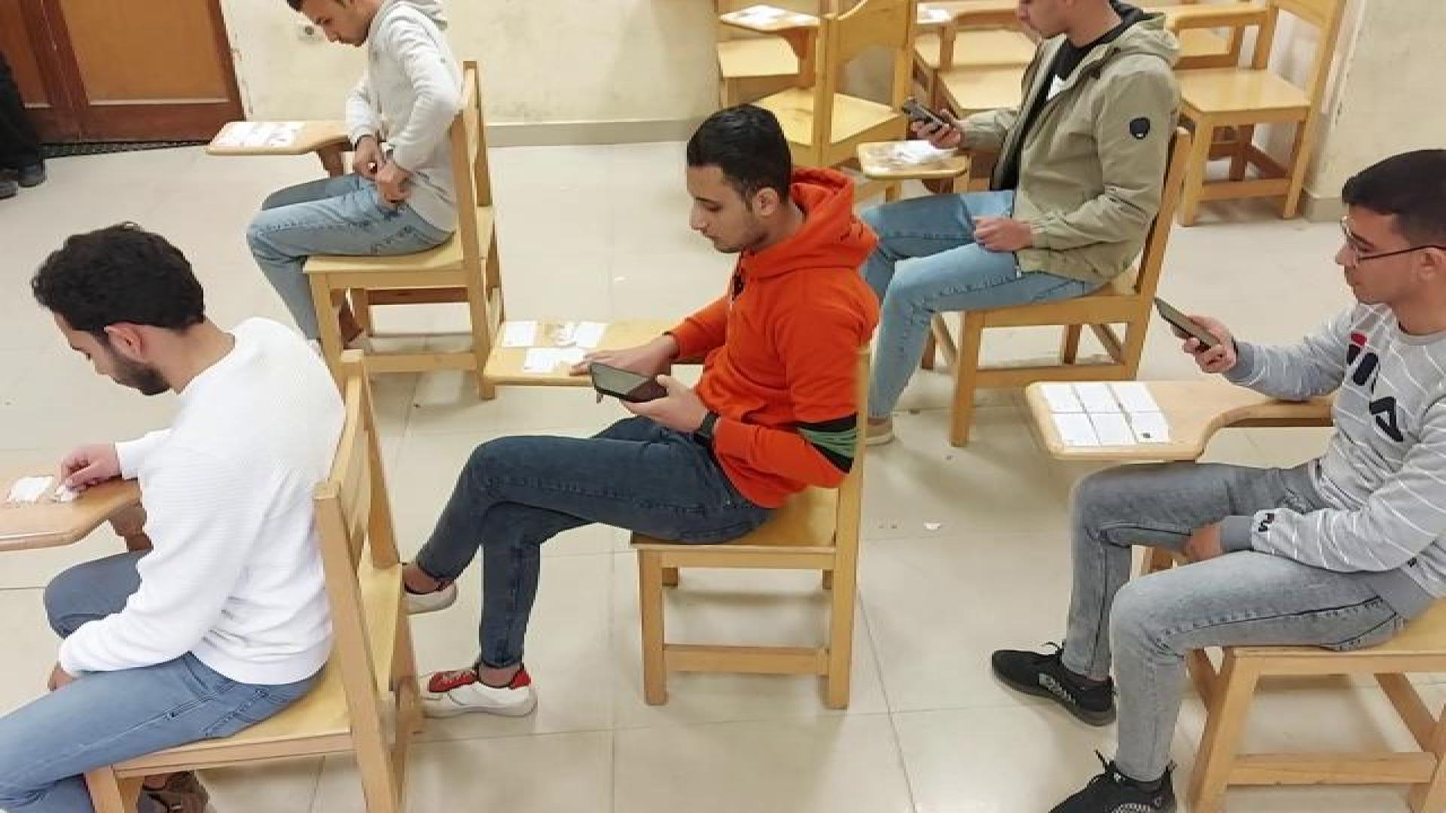phone: (1150, 292, 1243, 366), (576, 357, 685, 417), (899, 88, 967, 158)
